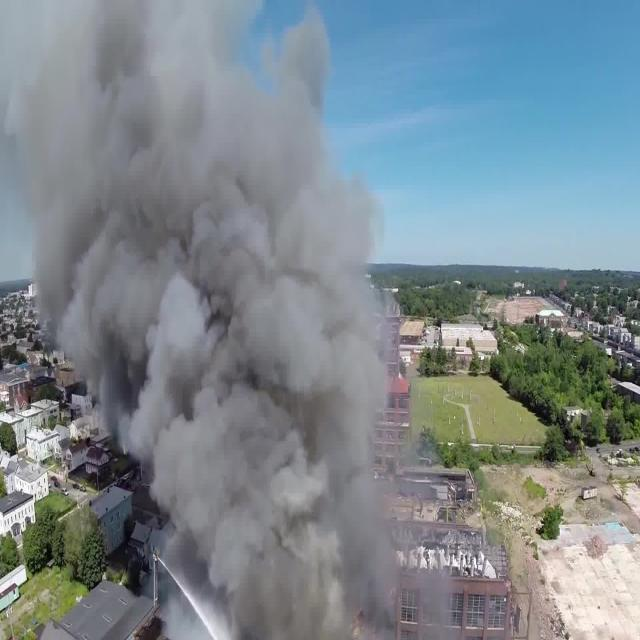Smoke: (52, 63, 389, 482)
